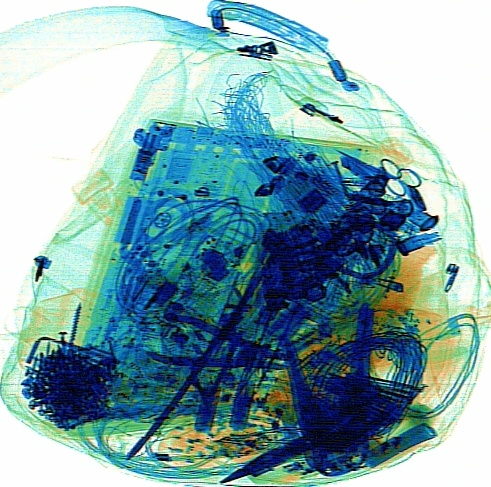scissors: (337, 146, 406, 196)
